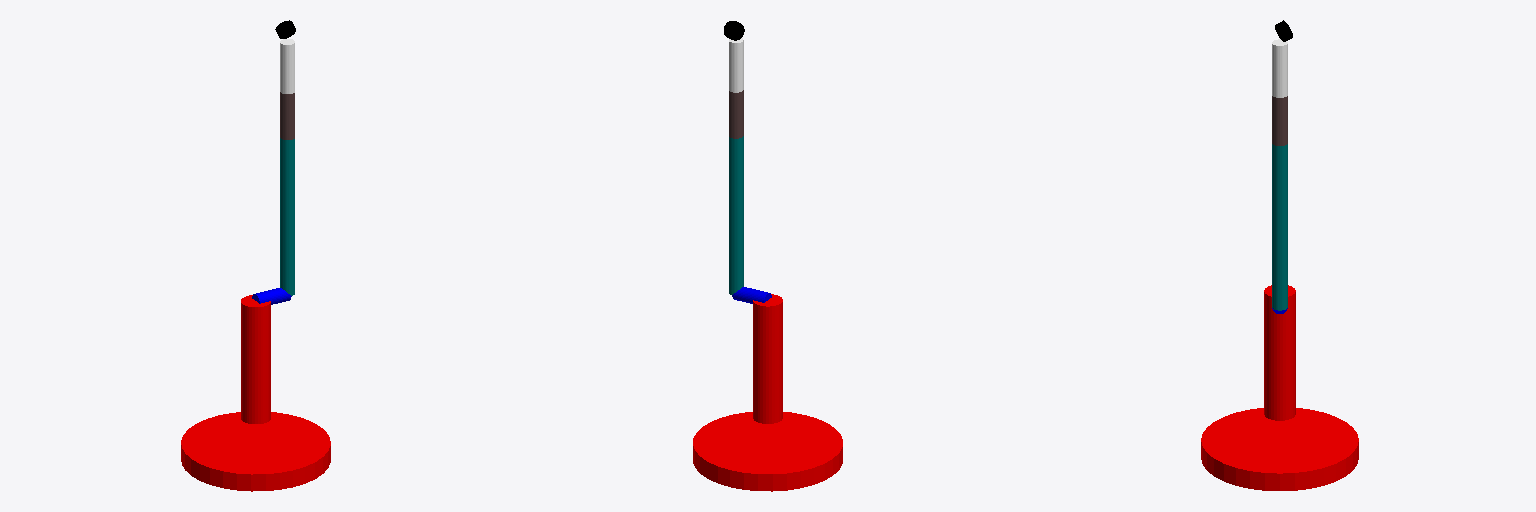
URDF robot description (arm_description):
<?xml version="1.0" encoding="utf-8"?>
<!-- =================================================================================== -->
<!-- |    This document was autogenerated by xacro from temp_arm_description.urdf.xacro | -->
<!-- |    EDITING THIS FILE BY HAND IS NOT RECOMMENDED                                 | -->
<!-- =================================================================================== -->
<!--
Author: Daniel Hirsch
This xacro expands into the URDF for the arm.

Note we use a dummy inertia as we never actually care about the intertia
enough to calculate it.

Note that most links have origin's equal to half their lengths

Generate model by running: rosrun xacro xacro -o arm_description.urdf arm_description.urdf.xacro
inside a shell in cmr_arm/arm_description/urdf
 -->
<robot name="arm_description">
  <link name="base">
    <intertial>
      <origin rpy="0 0 0" xyz="0 0 0"/>
      <mass value="1000"/>
      <inertia ixx="0.00035480405869602" ixy="-0.00065199857117274" ixz="0.000191849153841144" iyy="0.00158383903971818" iyz="9.59056305777939E-05" izz="0.00188232432766353"/>
    </intertial>
    <visual>
      <geometry>
        <cylinder length="0" radius="0.0001"/>
      </geometry>
      <origin rpy="0 0 0" xyz="0 0 0"/>
      <material name="base">
        <color rgba="0 1 0 1"/>
      </material>
    </visual>
    <collision>
      <geometry>
        <cylinder length="0" radius="0.0001"/>
      </geometry>
      <origin rpy="0 0 0" xyz="0 0 0"/>
    </collision>
  </link>
  <link name="base_rotate">
    <intertial>
      <origin rpy="0 0 0" xyz="0 0 0"/>
      <mass value="1"/>
      <inertia ixx="0.00035480405869602" ixy="-0.00065199857117274" ixz="0.000191849153841144" iyy="0.00158383903971818" iyz="9.59056305777939E-05" izz="0.00188232432766353"/>
    </intertial>
    <visual>
      <geometry>
        <cylinder length="0.05" radius="0.2"/>
      </geometry>
      <origin rpy="0 0 0" xyz="0 0 0"/>
      <material name="base_rotate">
        <color rgba="1 0 0 1"/>
      </material>
    </visual>
    <collision>
      <geometry>
        <cylinder length="0.05" radius="0.2"/>
      </geometry>
      <origin rpy="0 0 0" xyz="0 0 0"/>
    </collision>
  </link>
  <joint name="base_rotate" type="revolute">
    <origin rpy="0 0 0" xyz="0 0 0"/>
    <parent link="base"/>
    <child link="base_rotate"/>
    <axis xyz="0 0 1"/>
    <limit effort="0" lower="-1.57" upper="1.57" velocity="0"/>
  </joint>
  <link name="shoulder">
    <intertial>
      <origin rpy="0 0 0" xyz="0 0 0.17215"/>
      <mass value="0.65"/>
      <inertia ixx="0.00035480405869602" ixy="-0.00065199857117274" ixz="0.000191849153841144" iyy="0.00158383903971818" iyz="9.59056305777939E-05" izz="0.00188232432766353"/>
    </intertial>
    <visual>
      <geometry>
        <cylinder length="0.3443" radius="0.04"/>
      </geometry>
      <origin rpy="0 0 0" xyz="0 0 0.17215"/>
      <material name="shoulder">
        <color rgba="1 0 0 1"/>
      </material>
    </visual>
    <collision>
      <geometry>
        <cylinder length="0.3443" radius="0.04"/>
      </geometry>
      <origin rpy="0 0 0" xyz="0 0 0.17215"/>
    </collision>
  </link>
  <joint name="shoulder" type="revolute">
    <origin rpy="0 0 0" xyz="0 0 0.098"/>
    <parent link="base_rotate"/>
    <child link="shoulder"/>
    <axis xyz="1 0 0"/>
    <limit effort="0" lower="-1.57" upper="1.57" velocity="0"/>
  </joint>
  <link name="elbow">
    <intertial>
      <origin rpy="0 1.57075 0" xyz="0.049 0 0"/>
      <mass value="0.1"/>
      <inertia ixx="0.00035480405869602" ixy="-0.00065199857117274" ixz="0.000191849153841144" iyy="0.00158383903971818" iyz="9.59056305777939E-05" izz="0.00188232432766353"/>
    </intertial>
    <visual>
      <geometry>
        <cylinder length="0.098" radius="0.02"/>
      </geometry>
      <origin rpy="0 1.57075 0" xyz="0.049 0 0"/>
      <material name="elbow">
        <color rgba="0 0 1 1"/>
      </material>
    </visual>
    <collision>
      <geometry>
        <cylinder length="0.098" radius="0.02"/>
      </geometry>
      <origin rpy="0 1.57075 0" xyz="0.049 0 0"/>
    </collision>
  </link>
  <joint name="elbow" type="revolute">
    <origin rpy="0 0 0" xyz="0 0 0.3443"/>
    <parent link="shoulder"/>
    <child link="elbow"/>
    <axis xyz="1 0 0"/>
    <limit effort="0" lower="-2.35" upper="2.35" velocity="0"/>
  </joint>
  <link name="second_rotate">
    <intertial>
      <origin rpy="0 0 0" xyz="0 0 0.2298"/>
      <mass value="0.65"/>
      <inertia ixx="0.00035480405869602" ixy="-0.00065199857117274" ixz="0.000191849153841144" iyy="0.00158383903971818" iyz="9.59056305777939E-05" izz="0.00188232432766353"/>
    </intertial>
    <visual>
      <geometry>
        <cylinder length="0.4596" radius="0.02"/>
      </geometry>
      <origin rpy="0 0 0" xyz="0 0 0.2298"/>
      <material name="second_rotate">
        <color rgba="0 0.5 0.5 1"/>
      </material>
    </visual>
    <collision>
      <geometry>
        <cylinder length="0.4596" radius="0.02"/>
      </geometry>
      <origin rpy="0 0 0" xyz="0 0 0.2298"/>
    </collision>
  </link>
  <joint name="second_rotate" type="revolute">
    <origin rpy="0 0 0" xyz="0.098 0 0"/>
    <parent link="elbow"/>
    <child link="second_rotate"/>
    <axis xyz="0 0 1"/>
    <limit effort="0" lower="-3.14" upper="3.14" velocity="0"/>
  </joint>
  <link name="third_tilt">
    <intertial>
      <origin rpy="0 0 0" xyz="0 0 0.0674"/>
      <mass value="0.3"/>
      <inertia ixx="0.00035480405869602" ixy="-0.00065199857117274" ixz="0.000191849153841144" iyy="0.00158383903971818" iyz="9.59056305777939E-05" izz="0.00188232432766353"/>
    </intertial>
    <visual>
      <geometry>
        <cylinder length="0.1348" radius="0.02"/>
      </geometry>
      <origin rpy="0 0 0" xyz="0 0 0.0674"/>
      <material name="third_tilt">
        <color rgba=".4 .3 .3 1"/>
      </material>
    </visual>
    <collision>
      <geometry>
        <cylinder length="0.1348" radius="0.02"/>
      </geometry>
      <origin rpy="0 0 0" xyz="0 0 0.0674"/>
    </collision>
  </link>
  <joint name="third_tilt" type="revolute">
    <origin rpy="0 0 0" xyz="0 0 0.4596"/>
    <parent link="second_rotate"/>
    <child link="third_tilt"/>
    <axis xyz="1 0 0"/>
    <limit effort="0" lower="-1.57" upper="1.57" velocity="0"/>
  </joint>
  <link name="third_rotate">
    <intertial>
      <origin rpy="0 0 0" xyz="0 0 0.0726"/>
      <mass value="0.3"/>
      <inertia ixx="0.00035480405869602" ixy="-0.00065199857117274" ixz="0.000191849153841144" iyy="0.00158383903971818" iyz="9.59056305777939E-05" izz="0.00188232432766353"/>
    </intertial>
    <visual>
      <geometry>
        <cylinder length="0.1452" radius="0.02"/>
      </geometry>
      <origin rpy="0 0 0" xyz="0 0 0.0726"/>
      <material name="third_rotate">
        <color rgba="1 1 1 1"/>
      </material>
    </visual>
    <collision>
      <geometry>
        <cylinder length="0.1452" radius="0.02"/>
      </geometry>
      <origin rpy="0 0 0" xyz="0 0 0.0726"/>
    </collision>
  </link>
  <joint name="third_rotate" type="continuous">
    <origin xyz="0 0 0.1348"/>
    <parent link="third_tilt"/>
    <child link="third_rotate"/>
    <axis xyz="0 0 1"/>
  </joint>
  <link name="end_effector">
    <intertial>
      <origin rpy="0 0 0" xyz="0 0 0.012"/>
      <mass value="0.3"/>
      <inertia ixx="0.00035480405869602" ixy="-0.00065199857117274" ixz="0.000191849153841144" iyy="0.00158383903971818" iyz="9.59056305777939E-05" izz="0.00188232432766353"/>
    </intertial>
    <visual>
      <geometry>
        <cylinder length="0.025" radius="0.025"/>
      </geometry>
      <origin rpy="0 0 0" xyz="0 0 0.012"/>
      <material name="end_effector">
        <color rgba="0 0 0 1"/>
      </material>
    </visual>
    <collision>
      <geometry>
        <cylinder length="0.025" radius="0.025"/>
      </geometry>
      <origin rpy="0 0 0" xyz="0 0 0.012"/>
    </collision>
  </link>
  <joint name="end_effector" type="revolute">
    <origin rpy="-1 0 0" xyz="0 0 0.1702"/>
    <parent link="third_rotate"/>
    <child link="end_effector"/>
    <axis xyz="0 0 1"/>
    <limit effort="0" lower="0" upper="0" velocity="0"/>
  </joint>
</robot>

--- Render facts (derived) ---
3 views of the same robot in one strip: view 1: azimuth 30°, elevation 25°; view 2: azimuth 150°, elevation 25°; view 3: azimuth 270°, elevation 25° (orthographic).
Model arm_description with 8 links and 7 joints (6 revolute, 1 continuous), rooted at base, posed all joints at 0.
Visible links, largest first — view 1: base_rotate, shoulder, second_rotate, third_rotate, third_tilt; view 2: base_rotate, shoulder, second_rotate, third_rotate, third_tilt; view 3: base_rotate, shoulder, second_rotate, third_rotate, third_tilt.
Boxes of the visible links, bbox=[...] form: base_rotate: bbox=[181, 412, 330, 491]; shoulder: bbox=[241, 295, 270, 423]; second_rotate: bbox=[280, 138, 294, 295]; third_rotate: bbox=[280, 39, 294, 93]; third_tilt: bbox=[280, 92, 294, 139]; base_rotate: bbox=[693, 412, 842, 491]; shoulder: bbox=[753, 294, 782, 423]; second_rotate: bbox=[729, 136, 743, 294]; third_rotate: bbox=[729, 38, 743, 92]; third_tilt: bbox=[729, 90, 743, 138]; base_rotate: bbox=[1201, 408, 1358, 490]; shoulder: bbox=[1264, 285, 1295, 420]; second_rotate: bbox=[1272, 144, 1287, 310]; third_rotate: bbox=[1272, 39, 1287, 97]; third_tilt: bbox=[1272, 96, 1287, 145].
Size in the robot's own frame: 0.4 by 0.4 by 1.27 metres.
Geometry: primitives only (box / cylinder / sphere), no mesh files.
